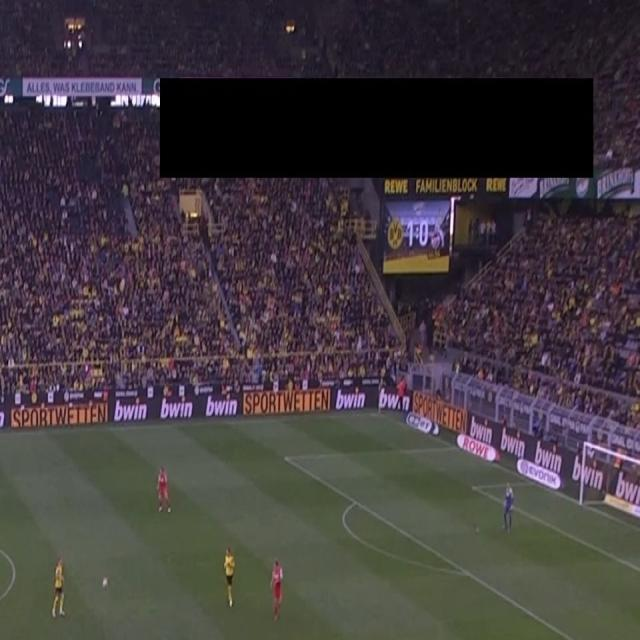ball: (102, 576, 108, 588)
